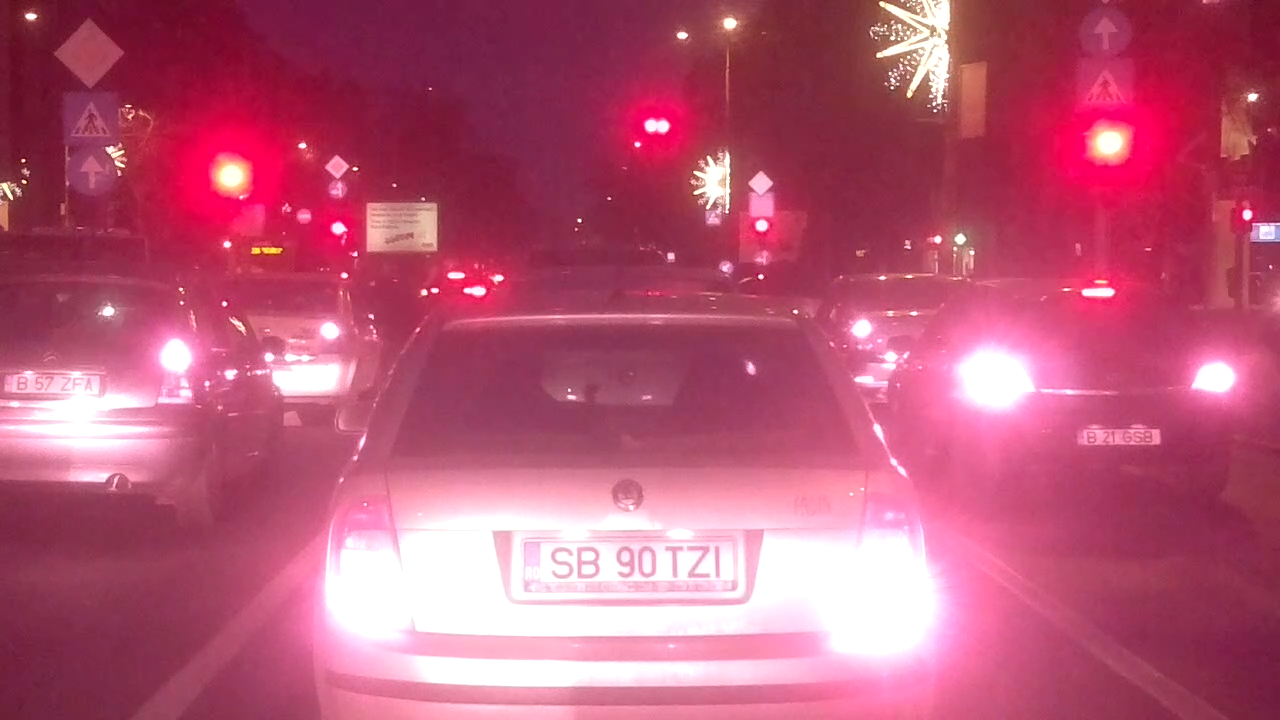license-plate: (519, 537, 741, 587), (0, 369, 104, 398), (1073, 424, 1164, 449)
